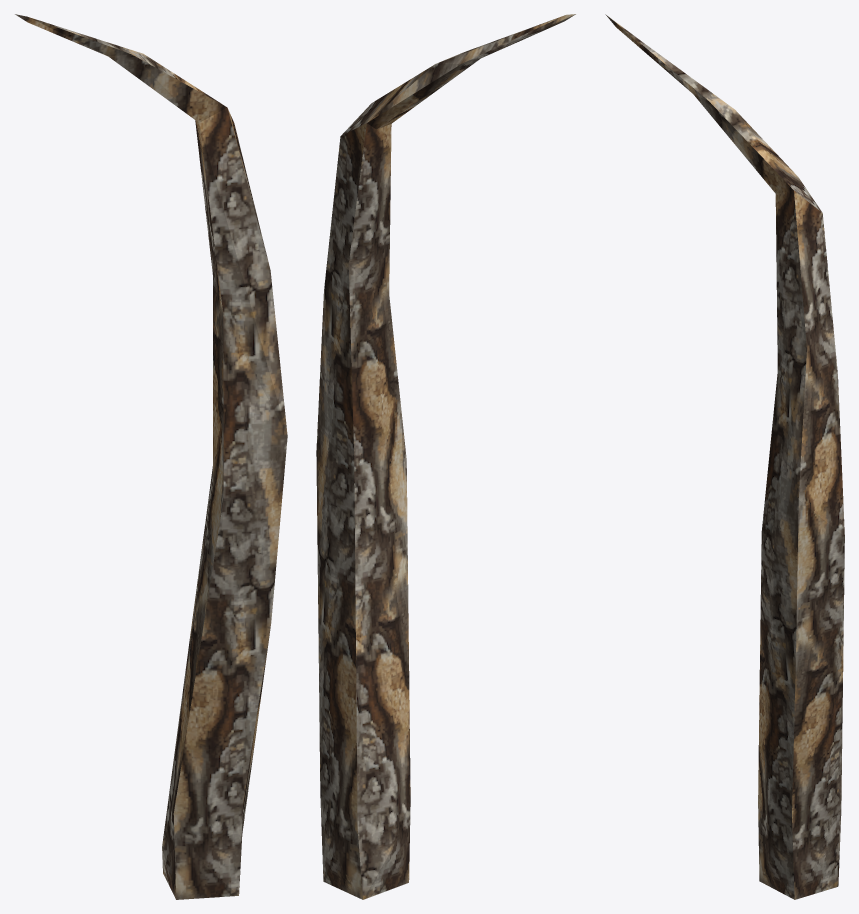
The model's file is Forest_1_Tree_2.gltf.
3 renders of one model, left to right at view 1: azimuth 30°, elevation 25°; view 2: azimuth 150°, elevation 25°; view 3: azimuth 330°, elevation 25°, orthographic. The views are drawn at different scales.
Parts seen in each view (by area): view 1: Forest_1_Tree_2; view 2: Forest_1_Tree_2; view 3: Forest_1_Tree_2.
Part boxes in pixels (x1=…): Forest_1_Tree_2: x1=15, y1=14, x2=287, y2=899; Forest_1_Tree_2: x1=316, y1=14, x2=575, y2=899; Forest_1_Tree_2: x1=605, y1=14, x2=844, y2=899.
Bounding box in the file's own units: 2.82 × 9.39 × 1.17.
1 material, 1 textured.
